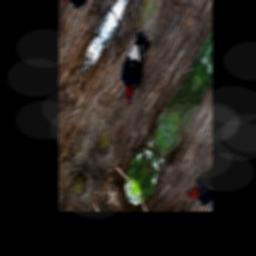Woodpecker: (109, 23, 163, 113)
